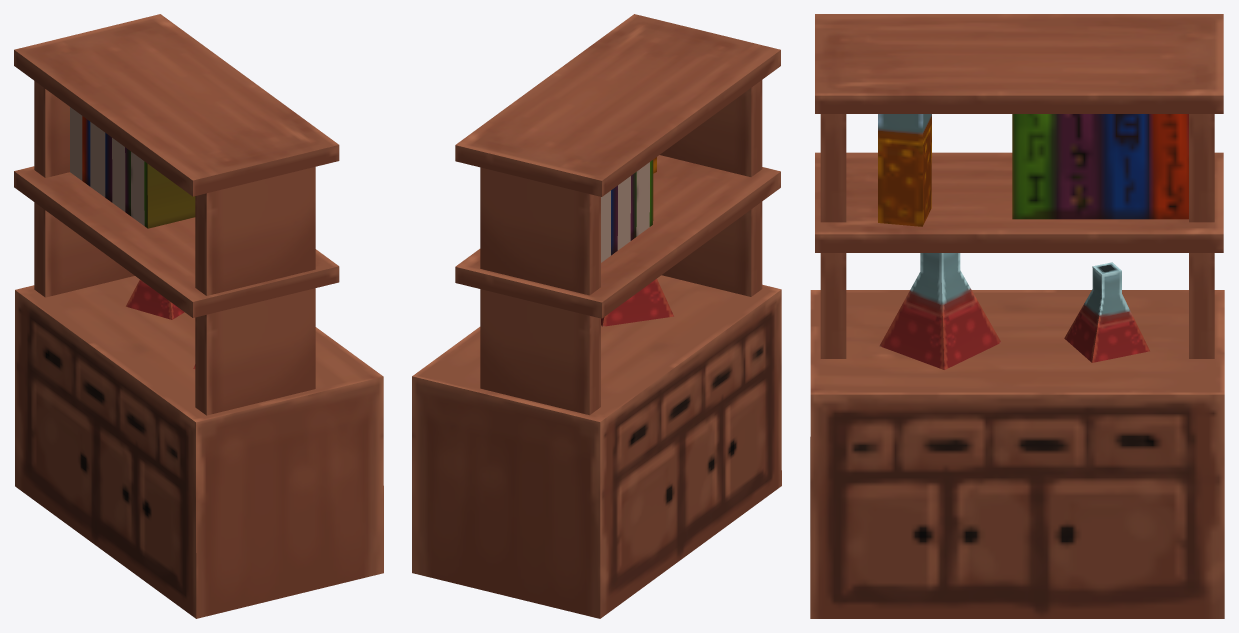
The model's file is Pri_Urb_PotionShelfVar01.fbx.
3 renders of one model, left to right at view 1: azimuth 30°, elevation 25°; view 2: azimuth 150°, elevation 25°; view 3: azimuth 270°, elevation 25°, orthographic. The views are drawn at different scales.
Visible parts, largest first — view 1: Pri_Urb_PotionShelfVar01; view 2: Pri_Urb_PotionShelfVar01; view 3: Pri_Urb_PotionShelfVar01.
Part boxes in pixels (left/top/right/bottom): Pri_Urb_PotionShelfVar01: left=14, top=14, right=383, bottom=618; Pri_Urb_PotionShelfVar01: left=412, top=14, right=781, bottom=618; Pri_Urb_PotionShelfVar01: left=810, top=14, right=1224, bottom=618.
Size of the model in its own units: 125 by 277 by 208.
